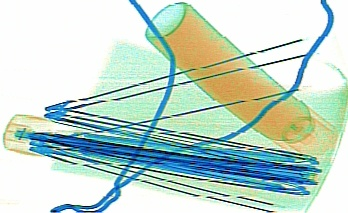pressure: (143, 1, 337, 160)
